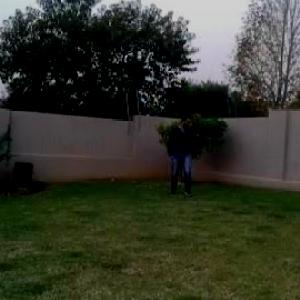follow: (169, 109, 195, 198)
